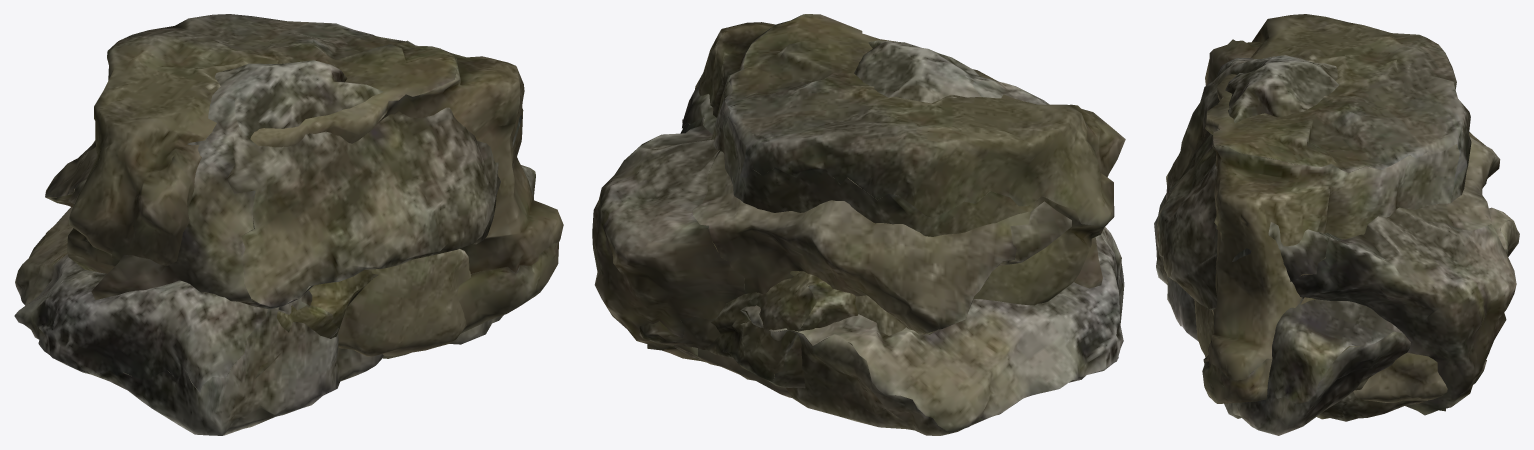
The model's file is grock_moss.glb.
The picture shows the model from 3 angles, left to right: view 1: azimuth 30°, elevation 25°; view 2: azimuth 150°, elevation 25°; view 3: azimuth 270°, elevation 25°; orthographic projection. The views are drawn at different scales.
Visible parts, largest first — view 1: grock_moss_v5_lod0, grock_moss_v3_lod0, grock_moss_v2_lod0, grock_moss_v0_lod0, grock_moss_v4_lod0; view 2: grock_moss_v5_lod0, grock_moss_v3_lod0, grock_moss_v2_lod0, grock_moss_v4_lod0, grock_moss_v0_lod0; view 3: grock_moss_v5_lod0, grock_moss_v3_lod0, grock_moss_v2_lod0, grock_moss_v0_lod0, grock_moss_v4_lod0.
Part boxes in pixels (x1,y1,x2,y2): grock_moss_v5_lod0: (67,14,563,358); grock_moss_v3_lod0: (45,60,522,309); grock_moss_v2_lod0: (14,165,535,435); grock_moss_v0_lod0: (330,249,470,356); grock_moss_v4_lod0: (182,269,378,378); grock_moss_v5_lod0: (695,14,1125,305); grock_moss_v3_lod0: (592,40,1102,362); grock_moss_v2_lod0: (740,227,1124,435); grock_moss_v4_lod0: (639,271,858,388); grock_moss_v0_lod0: (675,243,912,399); grock_moss_v5_lod0: (1202,14,1471,403); grock_moss_v3_lod0: (1156,55,1516,415); grock_moss_v2_lod0: (1154,193,1519,435); grock_moss_v0_lod0: (1194,299,1447,402); grock_moss_v4_lod0: (1317,359,1486,421).
Size of what is drawn, in the model's own units: 2.2 by 1.31 by 1.55.
Materials: 6 (6 with a texture image).
